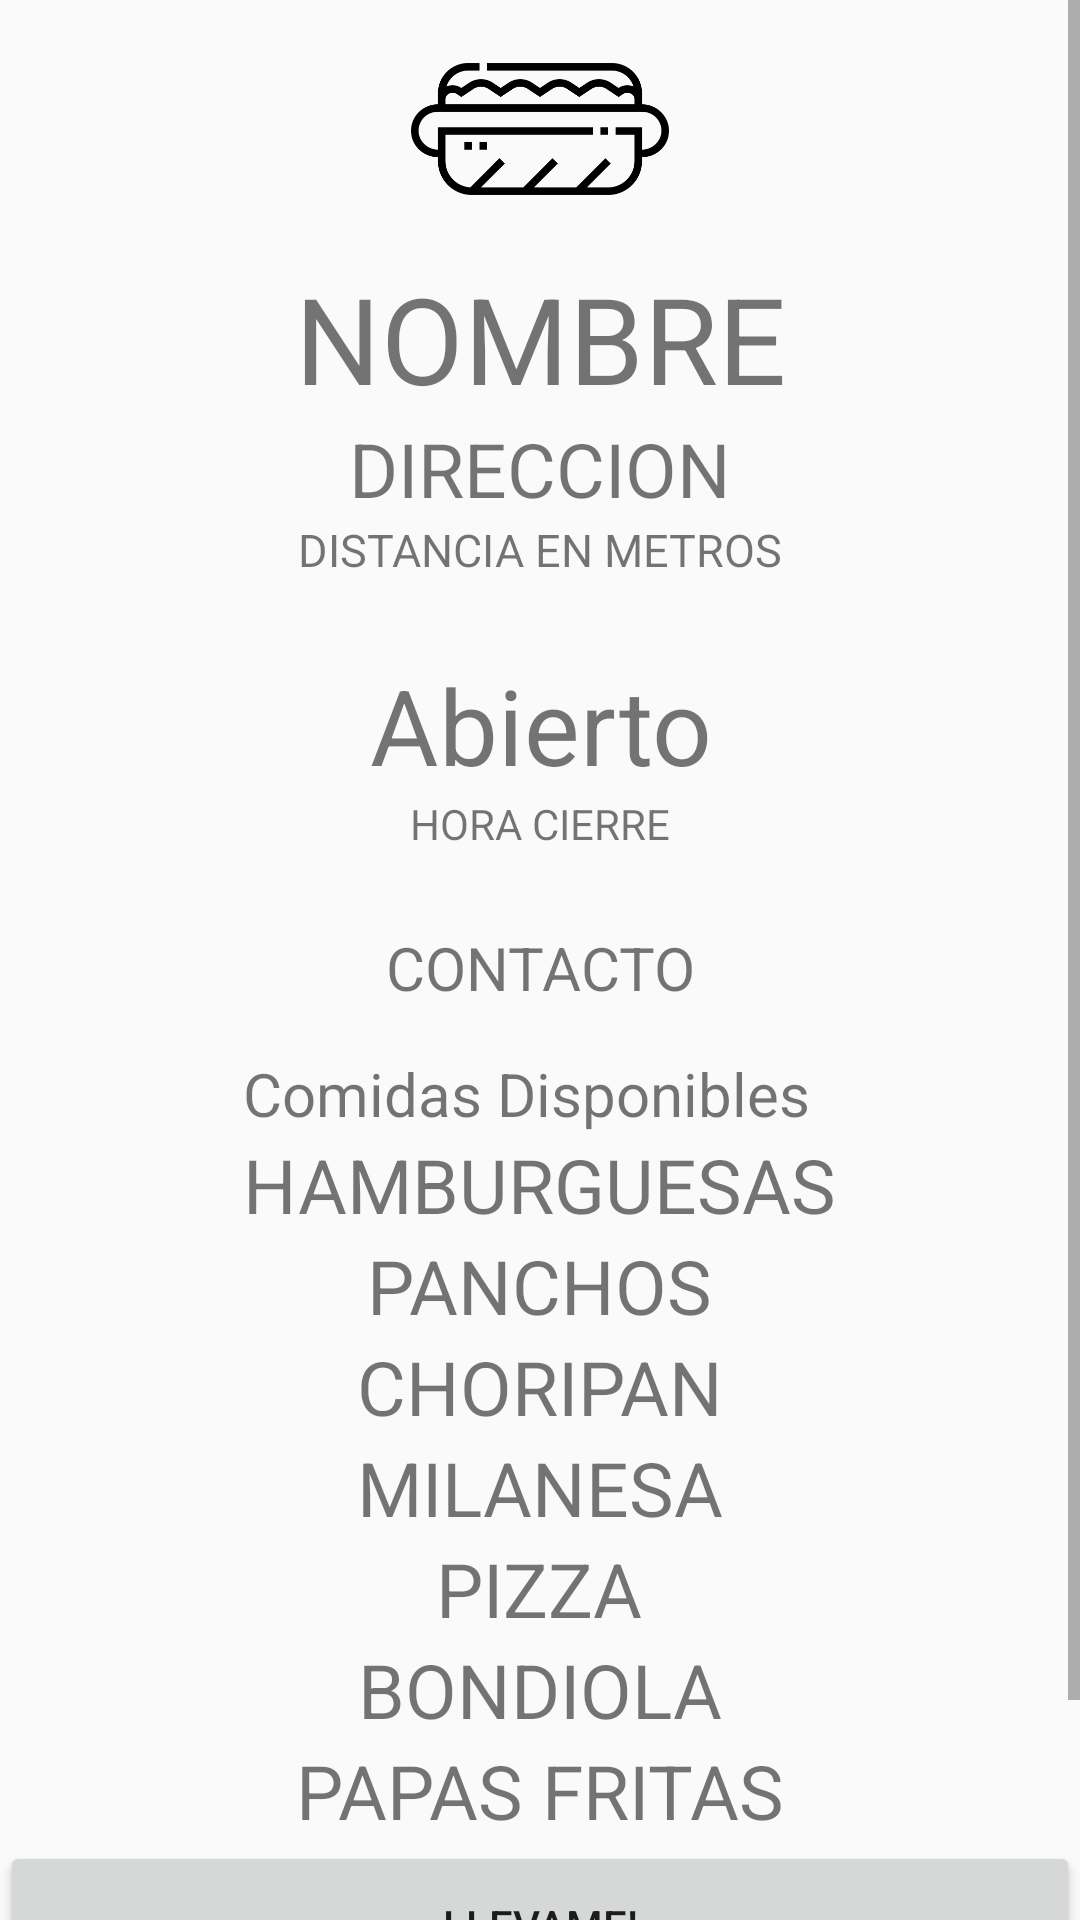

Screen size 1080px x 1920px. Icon name, then its center in pixels as [x,y]:
choripan: [540,129]
